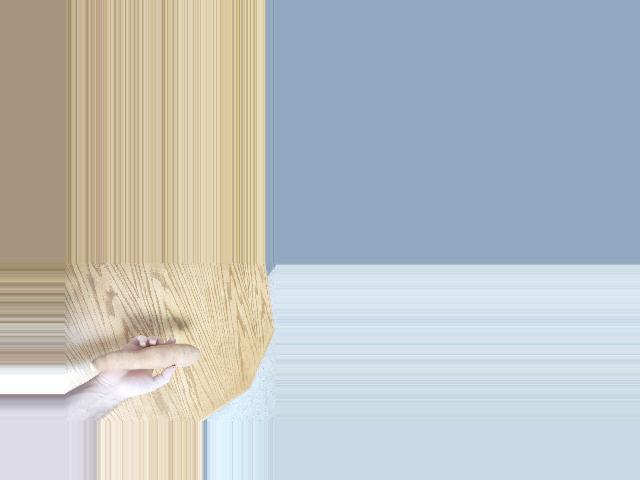sweet_potato: (94, 336, 204, 369)
